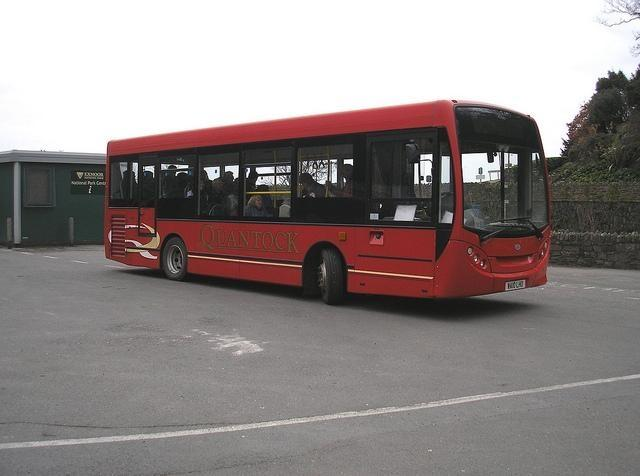bus: (108, 97, 556, 307)
